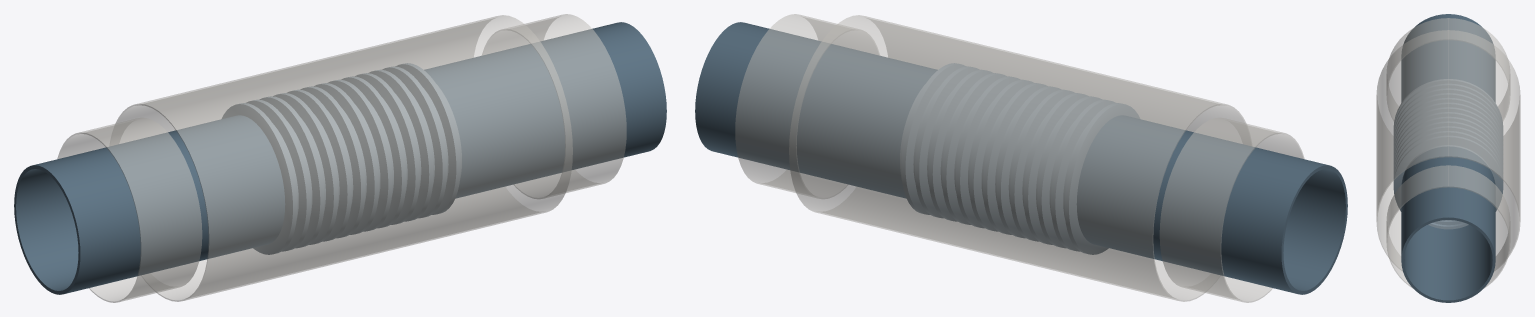
The model's file is ppu-dn250-L1393-D273-k-o417.glb.
3 renders of one model, left to right at view 1: azimuth 30°, elevation 25°; view 2: azimuth 150°, elevation 25°; view 3: azimuth 270°, elevation 25°, orthographic. The views are drawn at different scales.
Parts seen in each view (by area): view 1: uslovno_kozhuh_ppu, patrubok_1, prokladka_silfon_1, patrubok_2, uslovno_obolochka_l, uslovno_obolochka_r; view 2: uslovno_kozhuh_ppu, patrubok_1, prokladka_silfon_1, patrubok_2, uslovno_obolochka_l, uslovno_obolochka_r; view 3: uslovno_kozhuh_ppu, patrubok_2, prokladka_silfon_1, patrubok_1, uslovno_obolochka_r, uslovno_obolochka_l.
Boxes of the visible parts, <box> form: uslovno_kozhuh_ppu: <box>115,15,572,301</box>; patrubok_1: <box>14,115,285,294</box>; prokladka_silfon_1: <box>222,63,461,254</box>; patrubok_2: <box>424,22,666,198</box>; uslovno_obolochka_l: <box>57,117,202,302</box>; uslovno_obolochka_r: <box>482,14,626,198</box>; uslovno_kozhuh_ppu: <box>789,15,1246,301</box>; patrubok_1: <box>1076,115,1347,294</box>; prokladka_silfon_1: <box>900,63,1139,254</box>; patrubok_2: <box>695,22,937,198</box>; uslovno_obolochka_l: <box>1159,117,1304,302</box>; uslovno_obolochka_r: <box>735,14,879,198</box>; uslovno_kozhuh_ppu: <box>1376,30,1520,271</box>; patrubok_2: <box>1401,146,1495,302</box>; prokladka_silfon_1: <box>1393,79,1503,229</box>; patrubok_1: <box>1401,14,1495,102</box>; uslovno_obolochka_r: <box>1386,165,1510,288</box>; uslovno_obolochka_l: <box>1386,18,1510,120</box>.
Size of the model in its own units: 1393 by 417 by 417.
